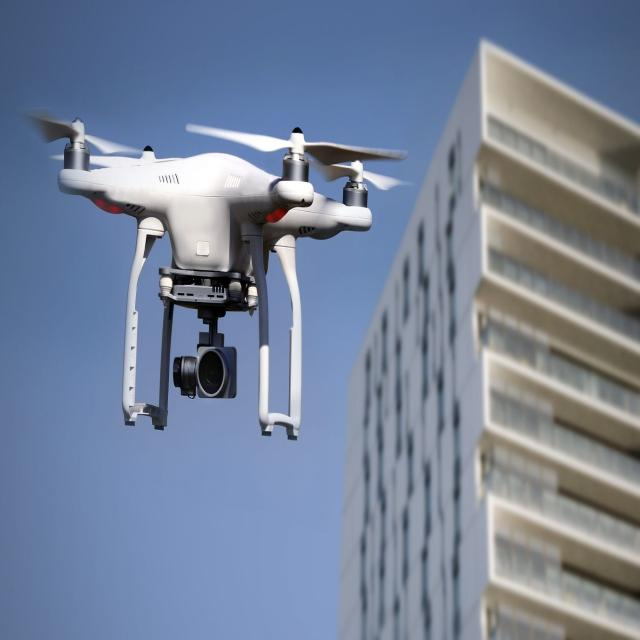drone: (16, 103, 419, 444)
